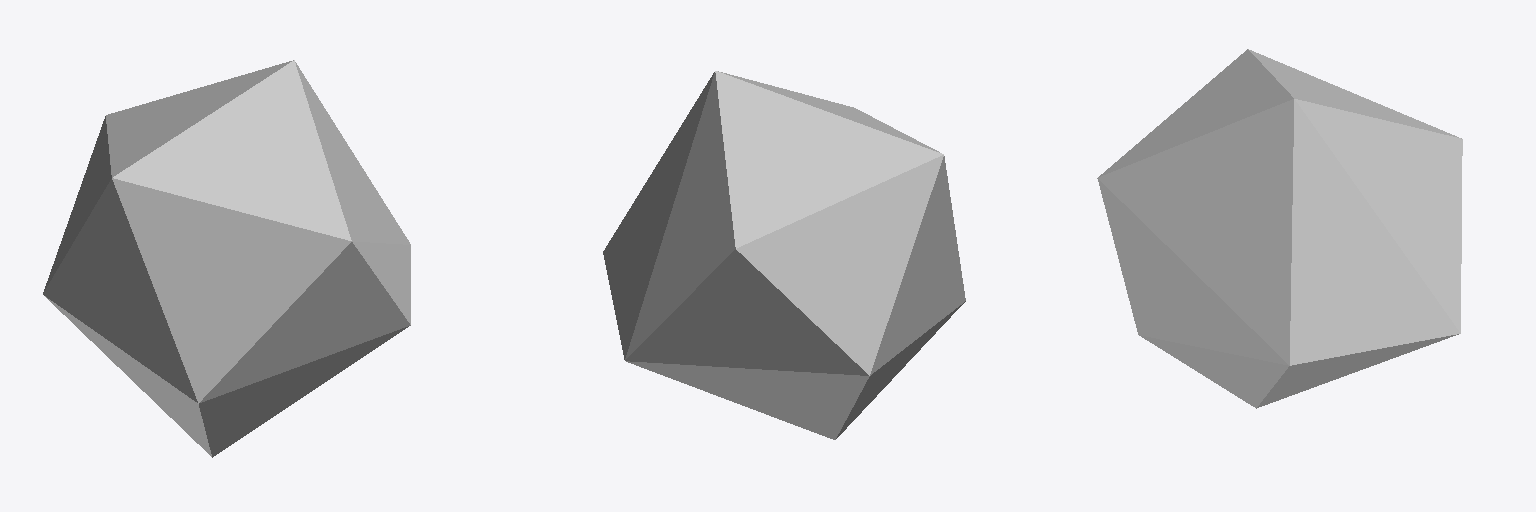
Rendered from rock.obj.
3 renders of one model, left to right at view 1: azimuth 30°, elevation 25°; view 2: azimuth 150°, elevation 25°; view 3: azimuth 270°, elevation 25°, orthographic.
Parts seen in each view (by area): view 1: rock_Icosphere.005; view 2: rock_Icosphere.005; view 3: rock_Icosphere.005.
Part boxes in pixels (x1,y1,x2,y2): rock_Icosphere.005: (43,60,410,457); rock_Icosphere.005: (603,71,965,439); rock_Icosphere.005: (1097,49,1462,408).
Bounding box in the file's own units: 5.91 × 6.34 × 5.84.